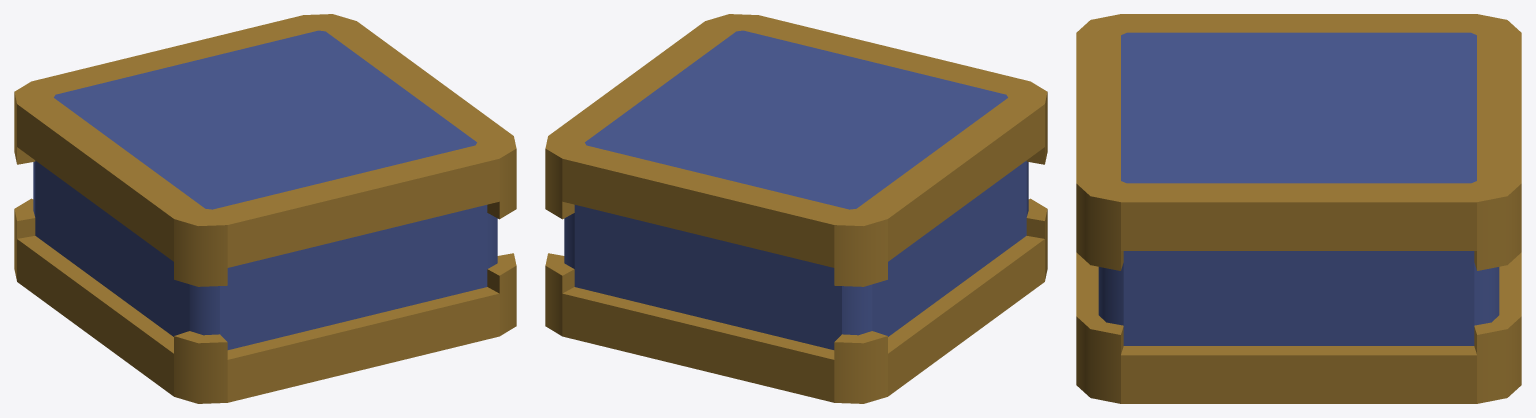
The model's file is blockMovingBlue.glb.
3 renders of one model, left to right at view 1: azimuth 30°, elevation 25°; view 2: azimuth 150°, elevation 25°; view 3: azimuth 270°, elevation 25°, orthographic. The views are drawn at different scales.
Parts seen in each view (by area): view 1: blockMovingBlue; view 2: blockMovingBlue; view 3: blockMovingBlue.
Part boxes in pixels (x1,y1,x2,y2): blockMovingBlue: (14, 14, 516, 403); blockMovingBlue: (545, 14, 1047, 403); blockMovingBlue: (1076, 14, 1521, 403).
Size of the model in its own units: 1 by 0.5 by 1.
